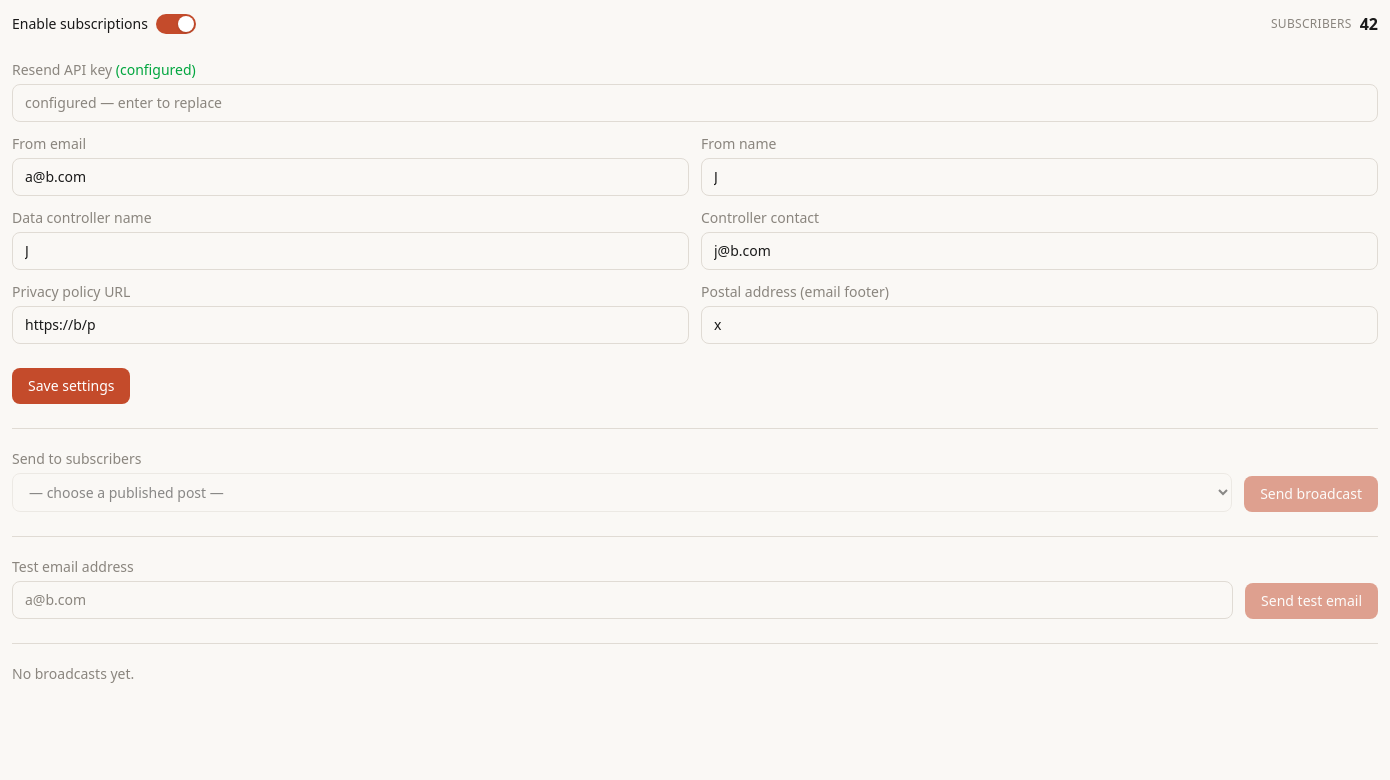
SubscriptionsPanel › shows session expired on a 401 save
Expected: the text "42" is shown, [1360,12,1378,36]
Click the button "Save settings": (71, 386) [12,368,130,404]
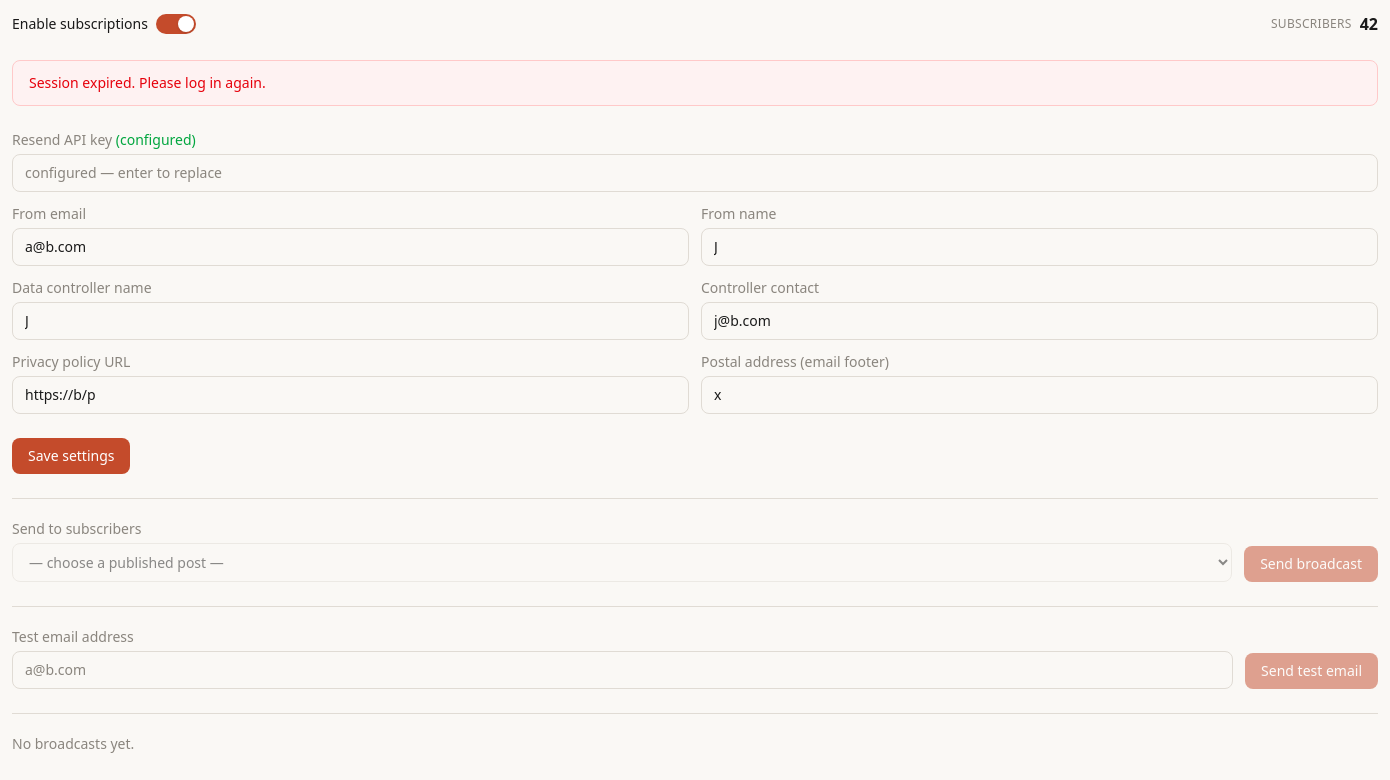
Now the text "Session expired. Please log in again." is shown, box [12,60,1378,106]
